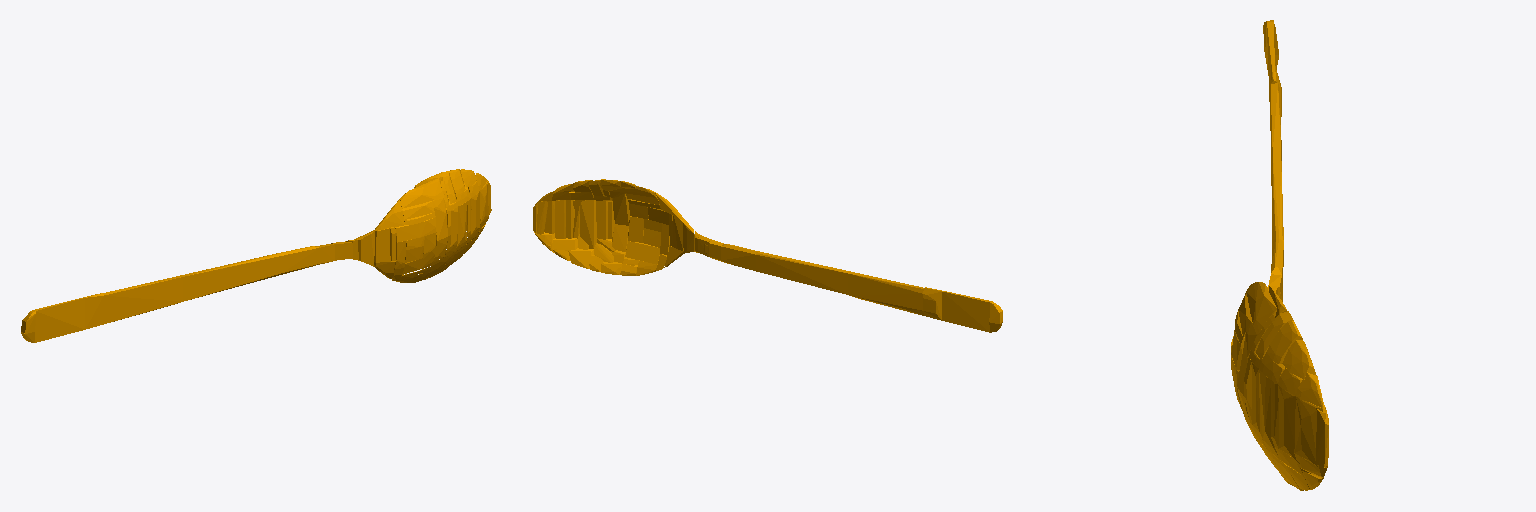
The robot description file, URDF, robot "cutlery-spoon":
<?xml version="1.0" ?>
<robot name="cutlery-spoon">
  <link name="baseLink">
    <contact>
      <lateral_friction value="1.0"/>
      <inertia_scaling value="3.0"/>
    </contact>
    <inertial>
      <origin rpy="0 0 0" xyz="0.000 0.000 0.000"/>
       <mass value=".1"/>
       <inertia ixx="1" ixy="0.0" ixz="0.0" iyy="1" iyz="0.0" izz="1"/>
    </inertial>
    <visual>
      <origin rpy="0 0 0" xyz="0 0 0"/>
      <geometry>
        <mesh filename="cutlery/cutlery-spoon_2.obj" scale="1.0 1.0 1.0"/>
      </geometry>
    </visual>
    <collision>
      <origin rpy="0 0 0" xyz="0 0 0"/>
      <geometry>
        <mesh filename="../collision/cutlery/cutlery-spoon_2.obj" scale="1.0 1.0 1.0"/>
      </geometry>
    </collision>
  </link>
</robot>
        

--- What the picture shows (computed from the rendered views, not written in the file) ---
Views: 3 orthographic renders of the robot side by side, from view 1: azimuth 30°, elevation 25°; view 2: azimuth 150°, elevation 25°; view 3: azimuth 270°, elevation 25°.
Model cutlery-spoon with 1 links and 0 joints (none), rooted at baseLink, posed every joint at zero.
Links seen in each view (by area): view 1: baseLink; view 2: baseLink; view 3: baseLink.
Link boxes in pixels (x1,y1,x2,y2): baseLink: (21,169,491,342); baseLink: (533,179,1002,332); baseLink: (1231,20,1328,490).
Size in the robot's own frame: 0.2028 by 0.0205 by 0.0402 metres.
Meshes: 1 distinct files referenced, 1 mesh visuals loaded (1 OBJ).